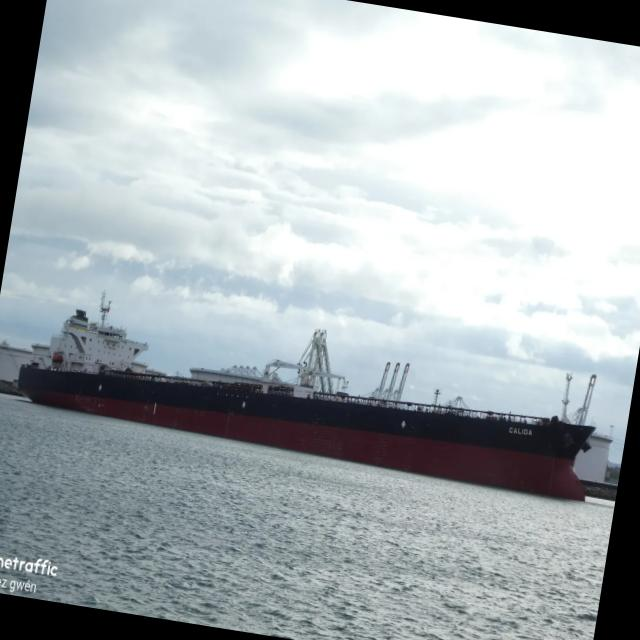Tanker: (18, 294, 593, 500)
